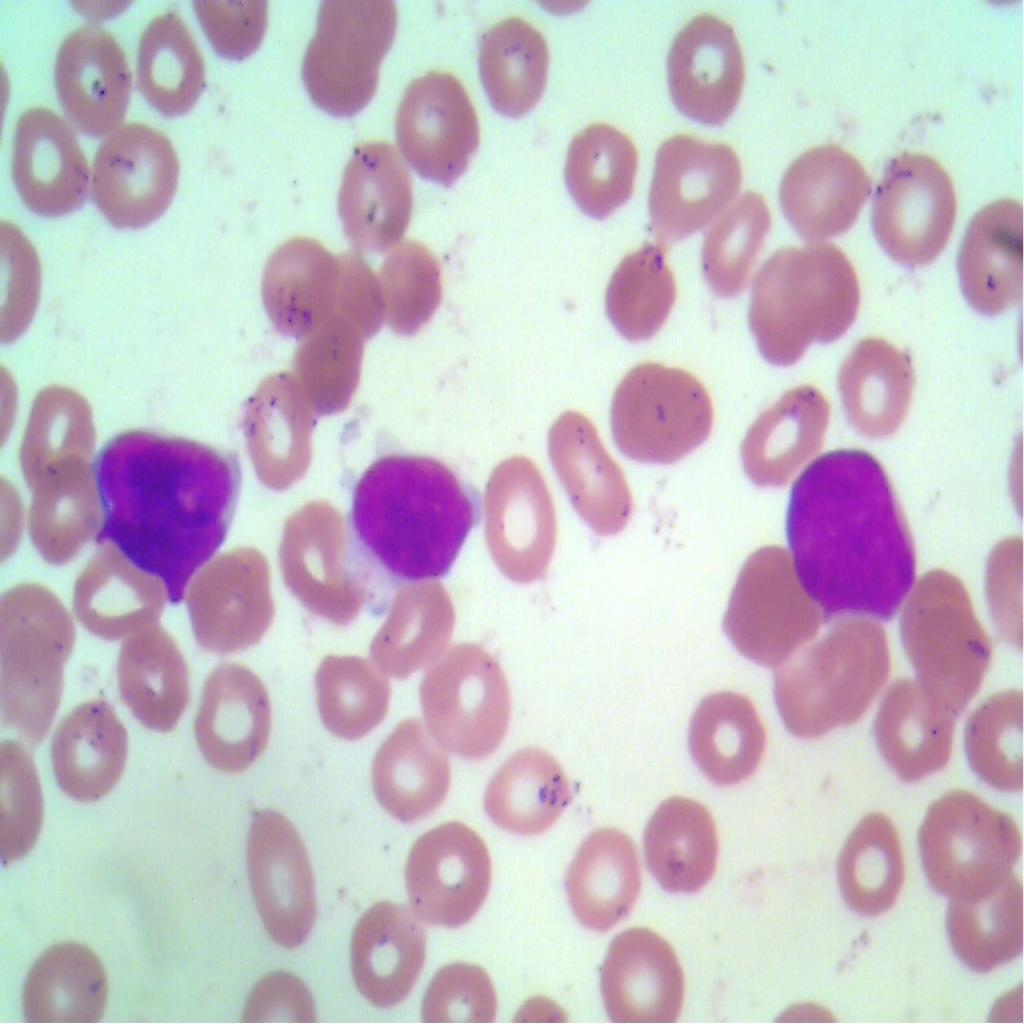Eritrosit: (223, 777, 328, 958), (715, 542, 821, 672), (783, 619, 884, 752), (614, 344, 718, 472), (771, 127, 878, 248), (654, 4, 752, 136), (543, 414, 644, 542), (913, 781, 1023, 897), (721, 372, 833, 484), (470, 451, 556, 595), (43, 15, 141, 138), (276, 508, 370, 634), (336, 879, 424, 1011), (400, 62, 490, 189), (0, 103, 94, 224), (482, 738, 576, 856), (403, 814, 501, 927), (181, 534, 278, 648), (235, 368, 324, 492), (86, 124, 188, 231), (678, 688, 778, 797), (640, 785, 730, 906), (466, 15, 558, 131), (641, 131, 743, 235), (106, 616, 190, 742), (908, 572, 994, 694), (419, 637, 504, 760), (590, 912, 684, 1023), (864, 157, 954, 272), (878, 666, 968, 780), (50, 698, 136, 817), (602, 241, 686, 362), (951, 178, 1023, 319), (334, 125, 412, 255), (191, 655, 276, 774), (70, 542, 164, 647), (838, 325, 919, 445), (554, 115, 640, 227), (941, 862, 1023, 977), (309, 637, 388, 755), (29, 450, 110, 565), (18, 930, 116, 1023), (566, 815, 646, 928), (374, 574, 455, 684), (368, 244, 458, 342), (781, 237, 864, 343), (255, 230, 341, 332), (0, 577, 81, 685), (698, 183, 770, 302), (961, 675, 1023, 812), (301, 28, 386, 125), (16, 381, 93, 488), (741, 248, 813, 362), (368, 714, 441, 824), (136, 12, 210, 114), (293, 328, 371, 420), (838, 806, 902, 918), (0, 641, 66, 747), (319, 258, 389, 346)
Limfoblast: (778, 438, 926, 628), (91, 420, 242, 588), (346, 445, 476, 577)
